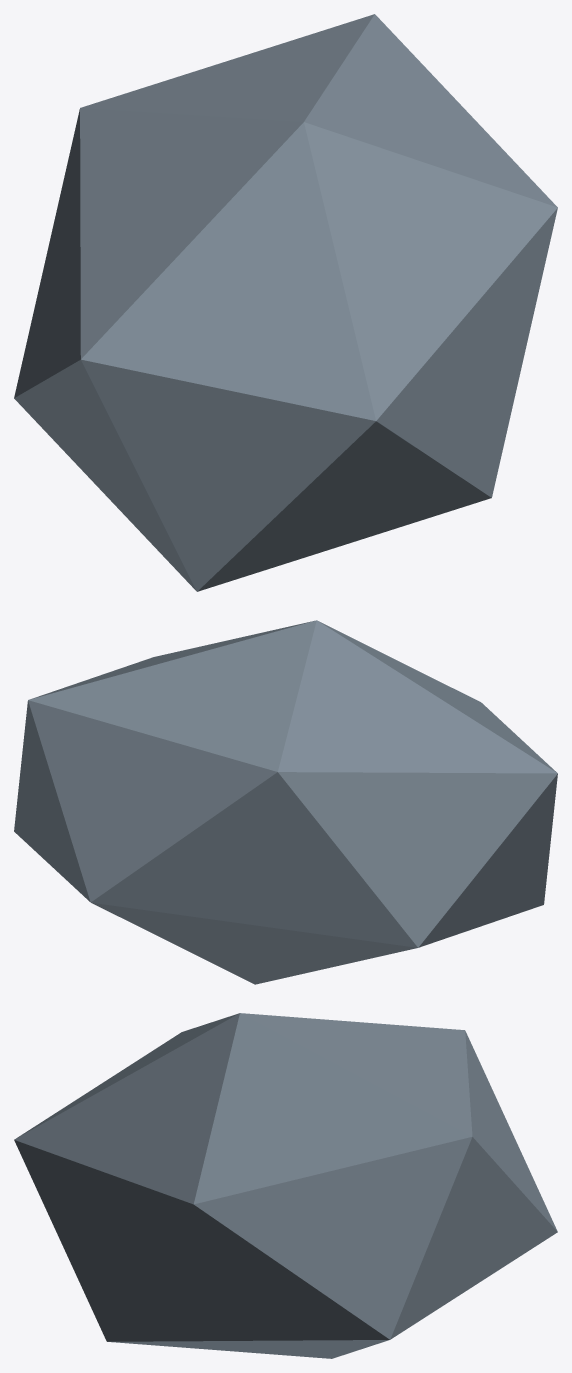
File: INT_BC_RubbleSouth_00_Stone_1.glb
The picture shows the model from 3 angles, top to bottom: view 1: azimuth 30°, elevation 25°; view 2: azimuth 150°, elevation 25°; view 3: azimuth 270°, elevation 25°; orthographic projection. The views are drawn at different scales.
Parts seen in each view (by area): view 1: INT_BC_RubbleSouth_00_Stone_1; view 2: INT_BC_RubbleSouth_00_Stone_1; view 3: INT_BC_RubbleSouth_00_Stone_1.
Part boxes in pixels (<box>): INT_BC_RubbleSouth_00_Stone_1: <box>14,14,557,591</box>; INT_BC_RubbleSouth_00_Stone_1: <box>14,620,557,984</box>; INT_BC_RubbleSouth_00_Stone_1: <box>14,1013,557,1358</box>.
Bounding box in the file's own units: 0.2938 × 0.2134 × 0.3112.
